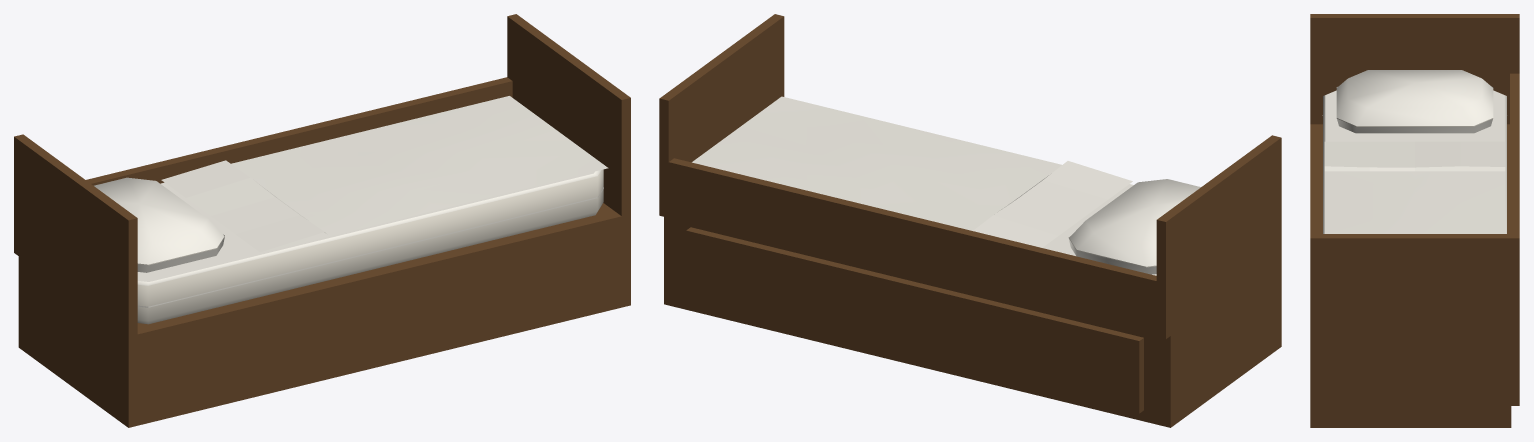
File: parametric-berth-1st-pub.glb
The picture shows the model from 3 angles, left to right: view 1: azimuth 30°, elevation 25°; view 2: azimuth 150°, elevation 25°; view 3: azimuth 270°, elevation 25°; orthographic projection. The views are drawn at different scales.
Visible parts, largest first — view 1: parametric-berth-1st-pub; view 2: parametric-berth-1st-pub; view 3: parametric-berth-1st-pub.
Boxes of the visible parts, x1,y1,x2,y2 form: parametric-berth-1st-pub: (14, 14, 630, 427); parametric-berth-1st-pub: (659, 14, 1281, 427); parametric-berth-1st-pub: (1310, 14, 1519, 427).
Bounding box in the file's own units: 1.9 × 0.75 × 0.75.
